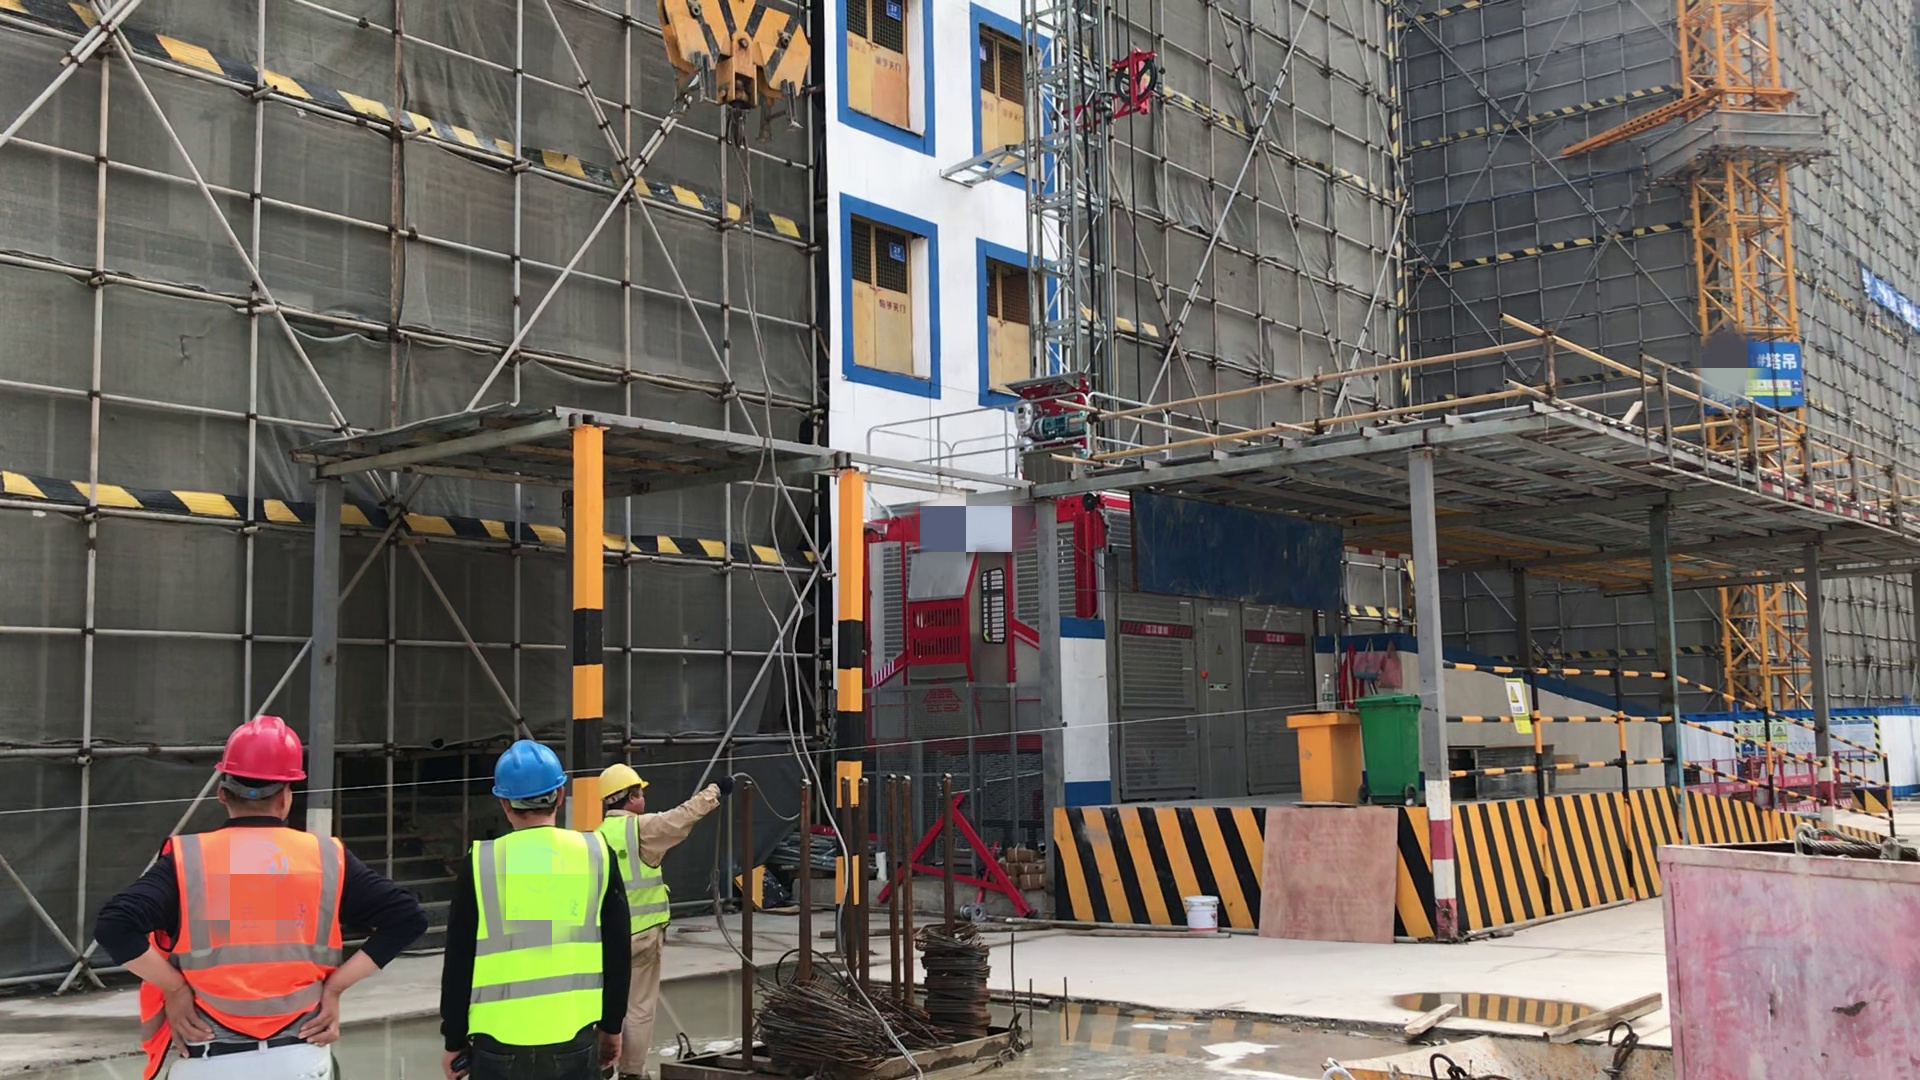fence: (1445, 606, 1920, 841)
helmet: (211, 704, 308, 793), (489, 726, 571, 805), (594, 755, 654, 802)
hook: (660, 1, 816, 141)
person: (97, 706, 432, 1080), (439, 736, 635, 1080), (588, 766, 741, 1080)
slogan: (1492, 668, 1541, 753)
vest: (134, 823, 355, 1058), (468, 825, 615, 1050), (592, 813, 679, 943)
